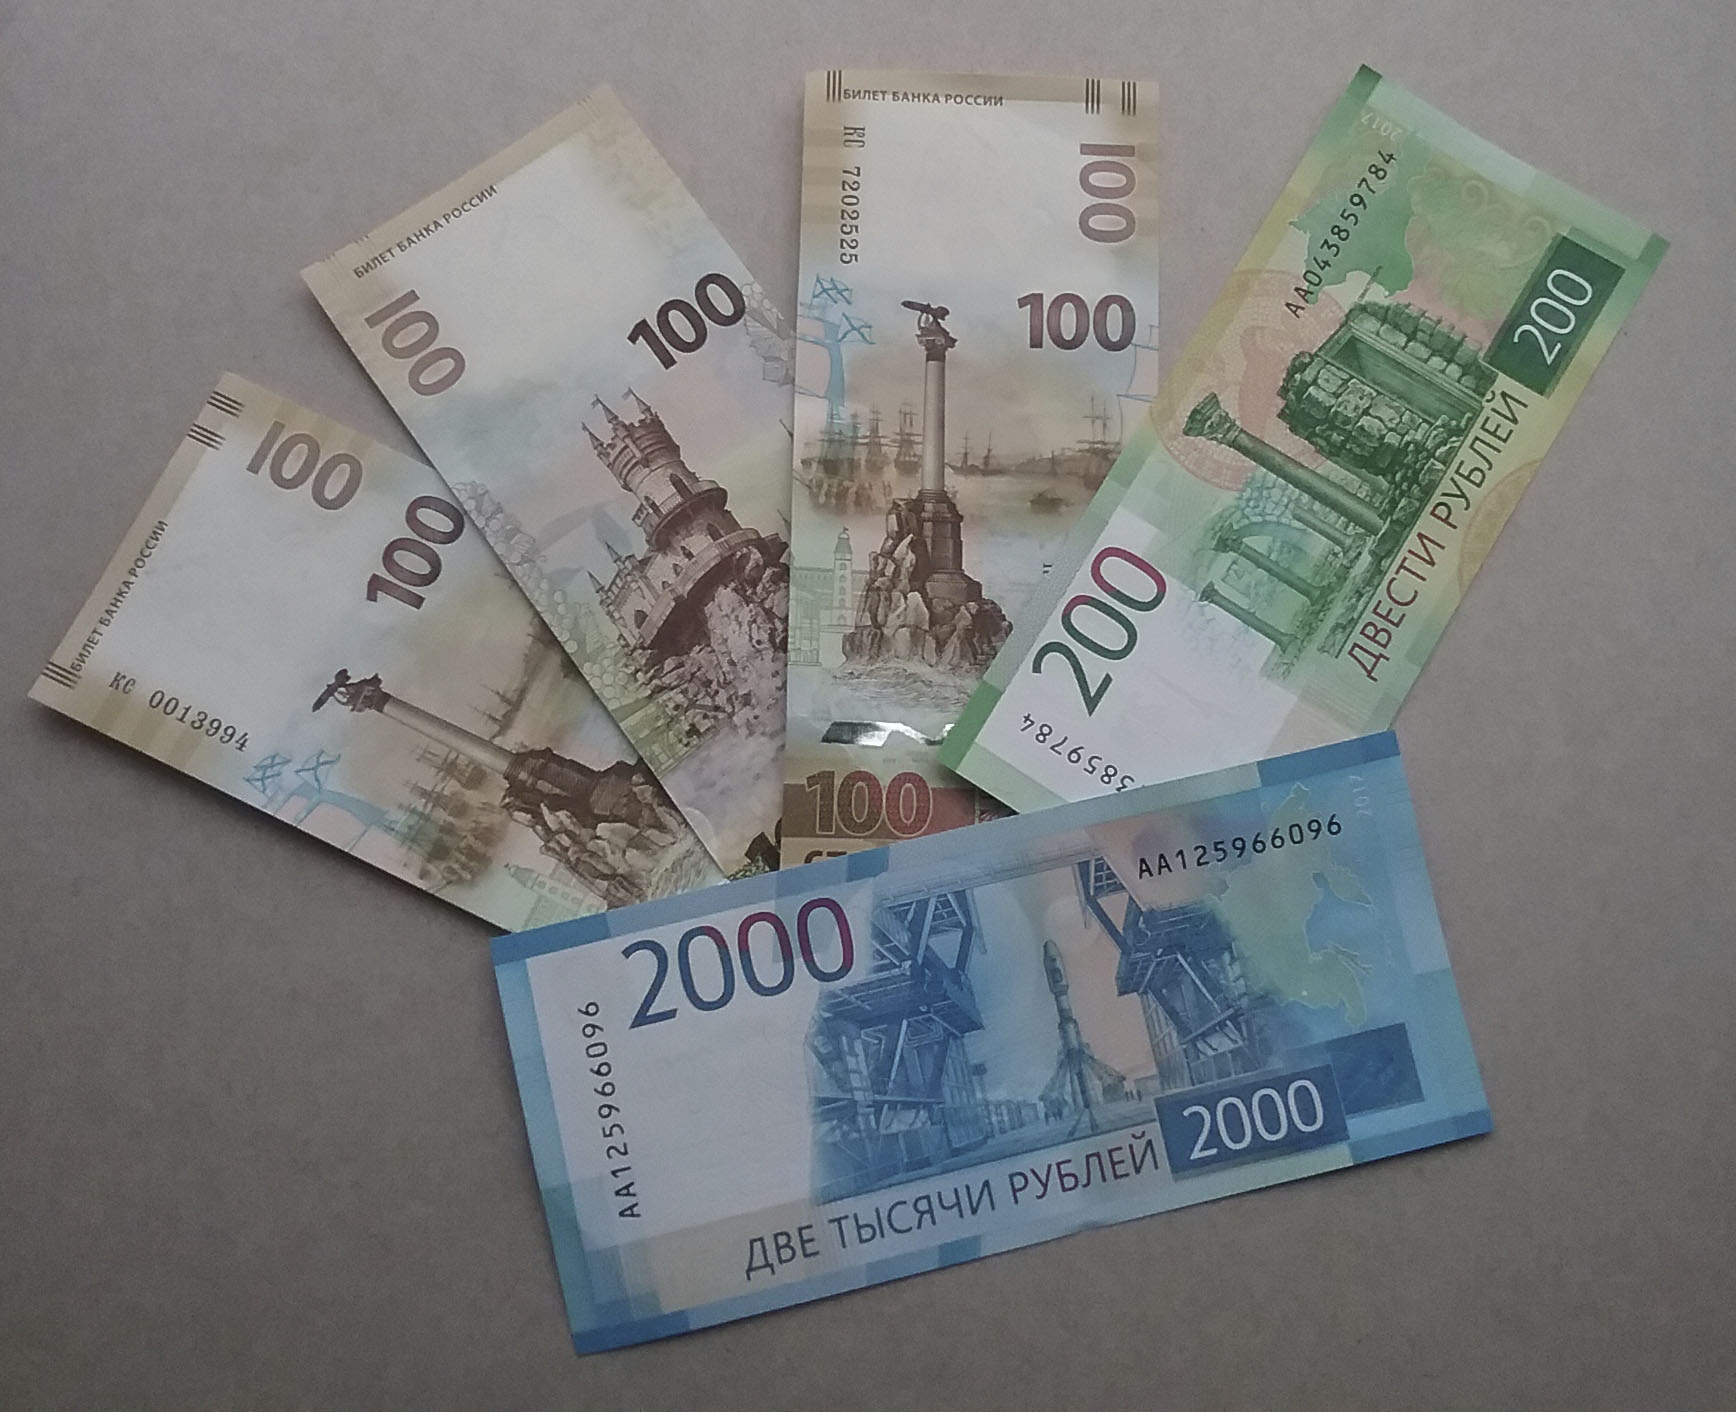cash: (484, 728, 1484, 1356), (947, 52, 1671, 903), (301, 76, 797, 882), (29, 362, 653, 939), (778, 50, 1163, 856)
